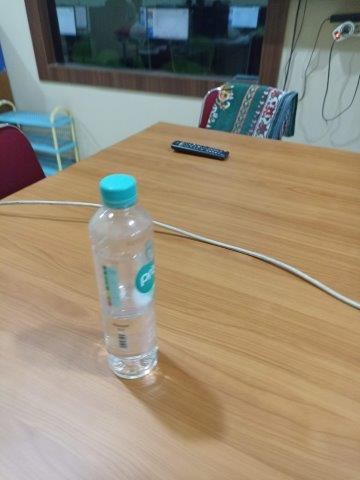botolplastik: (89, 173, 157, 381)
